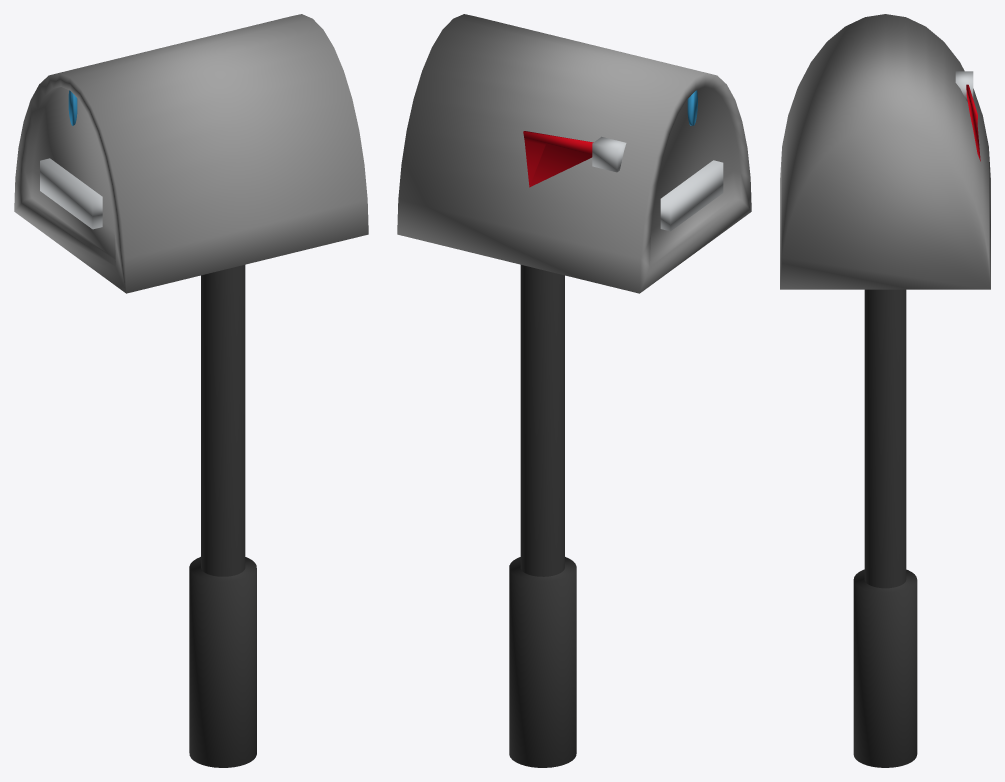
File: mailbox.fbx
3 views of the same model, side by side, from view 1: azimuth 30°, elevation 25°; view 2: azimuth 150°, elevation 25°; view 3: azimuth 270°, elevation 25° (orthographic). The views are drawn at different scales.
Parts seen in each view (by area): view 1: Cylinder, Cylinder.001, Cylinder.002, Cube; view 2: Cylinder, Cylinder.001, Cylinder.002, Cube, Plane, Cube.001; view 3: Cylinder, Cylinder.001, Cylinder.002, Plane, Cube.001.
Boxes of the visible parts, x1,y1,x2,y2 form: Cylinder: (14,14,368,293); Cylinder.001: (201,265,245,576); Cylinder.002: (189,557,256,767); Cube: (40,158,102,229); Cylinder: (397,14,751,293); Cylinder.001: (520,265,564,576); Cylinder.002: (509,557,576,767); Cube: (660,160,723,231); Plane: (523,131,593,187); Cube.001: (592,136,626,172); Cylinder: (780,14,990,289); Cylinder.001: (864,289,906,588); Cylinder.002: (853,569,917,767); Plane: (966,84,980,161); Cube.001: (955,71,973,102).
Bounding box in the file's own units: 61.34 × 171 × 48.59.
